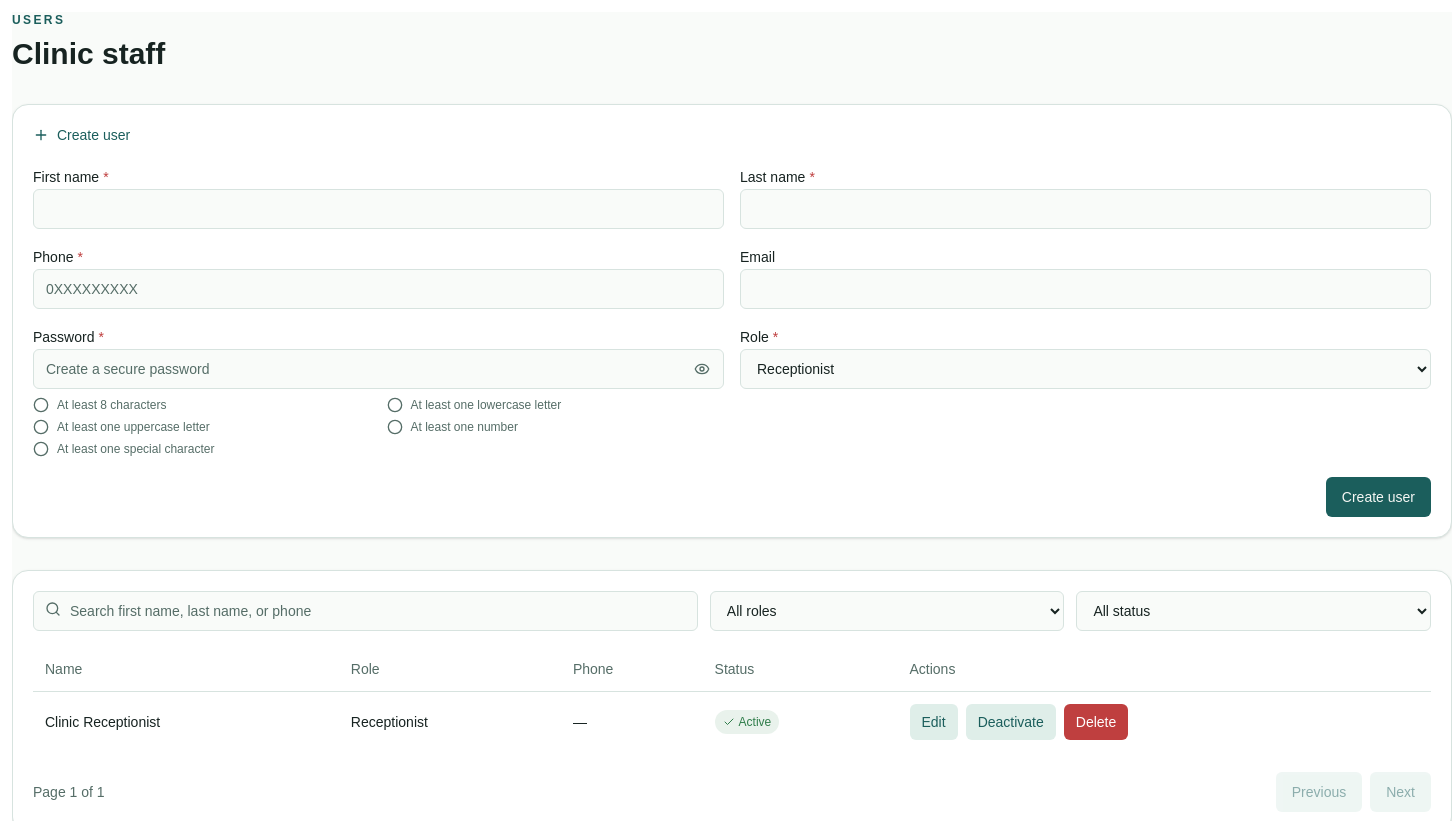
clinic staff form › allows an admin to reset another user's password only when a value is entered
Click the button "Edit" at (934, 722), box [910,704,958,740]
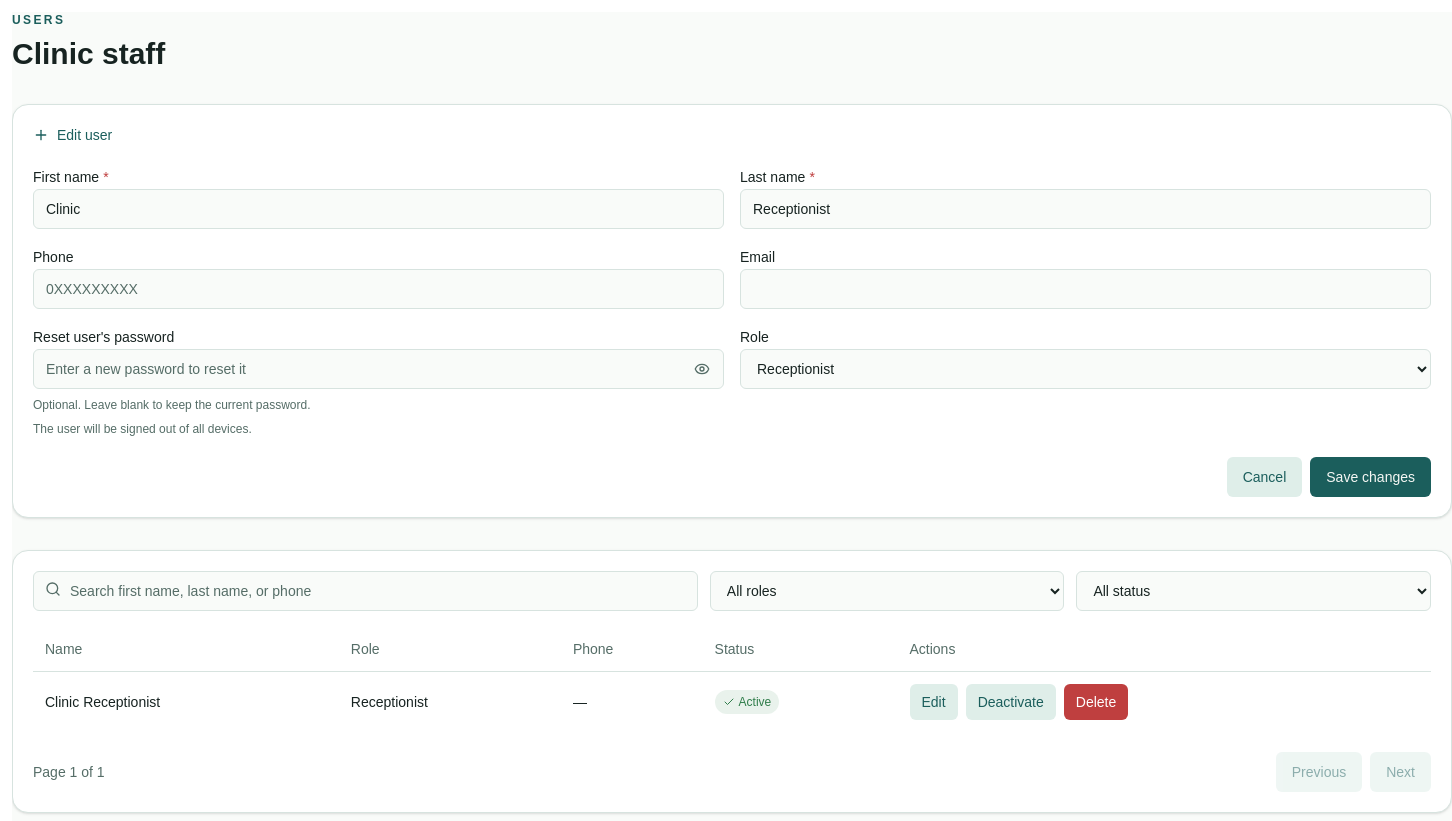
Check: the text "The user will be signed out of all devices." is shown, box [33,422,252,436]
Type "Resetpass1!" into the password field labelled "Reset user's password" at (378, 369), box [33,349,724,389]
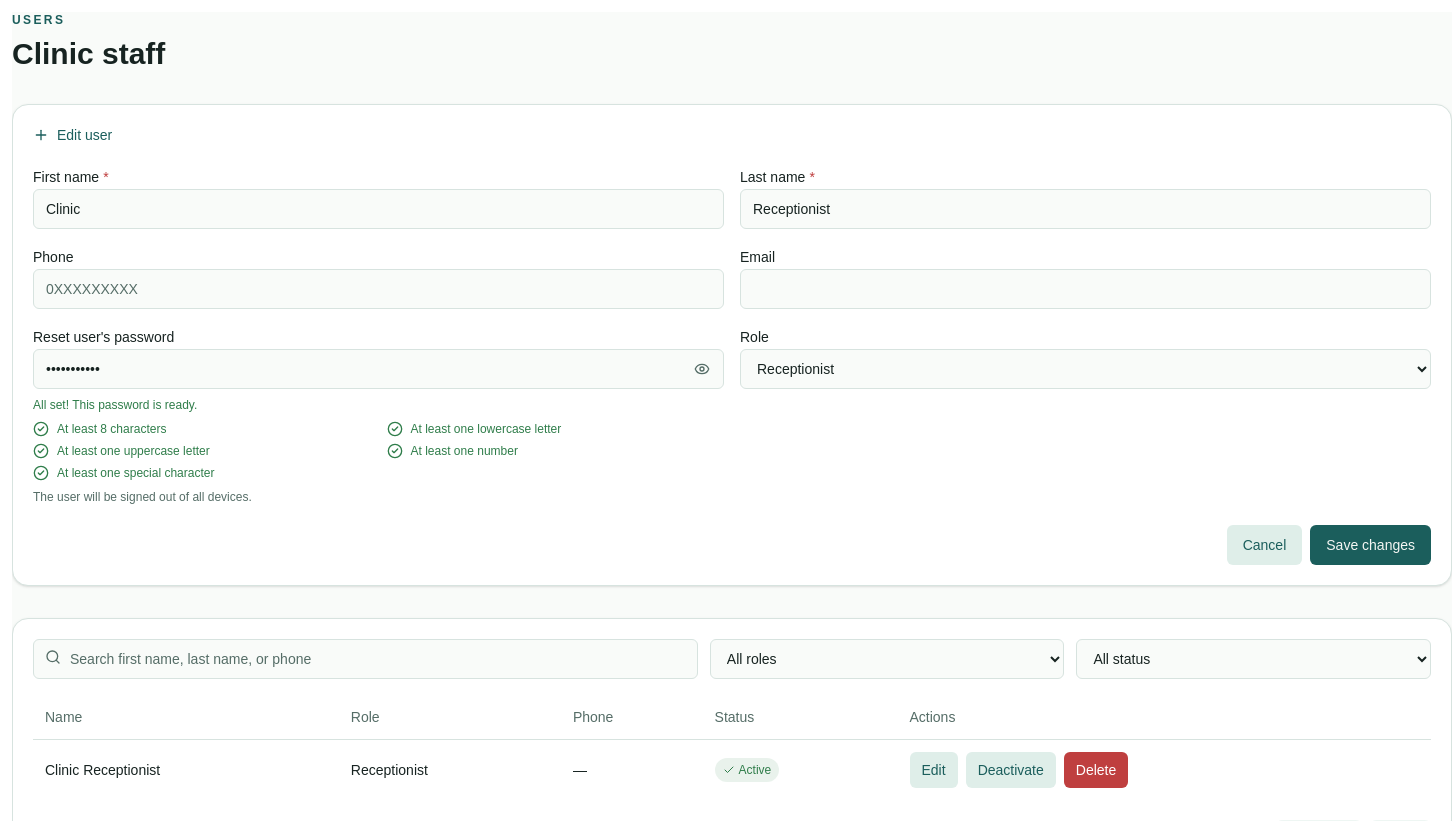
Click the button "Save changes" at (1371, 545), box [1310,525,1431,565]
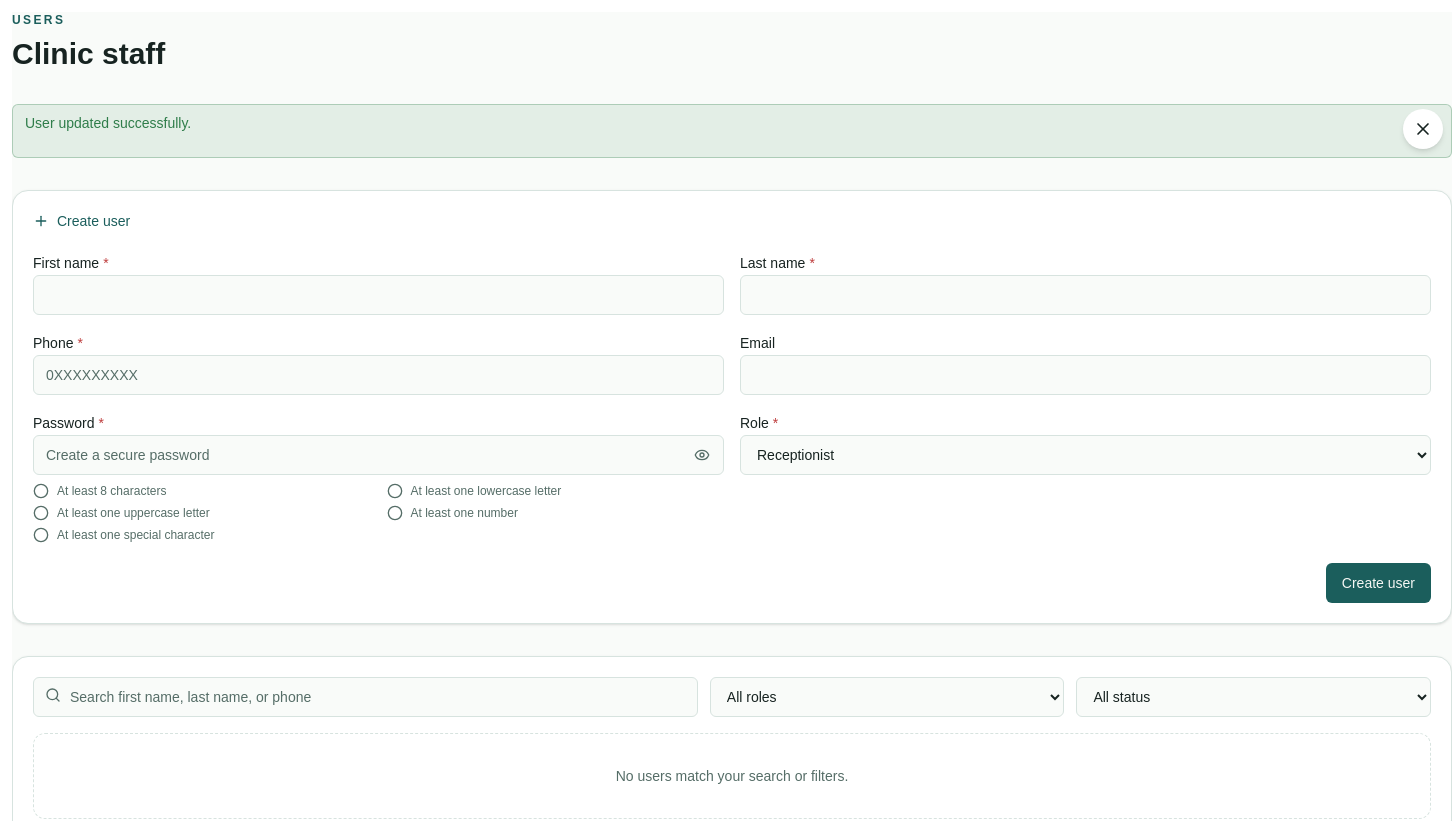
Check: the text "User updated successfully." is shown, box [25,115,191,131]
